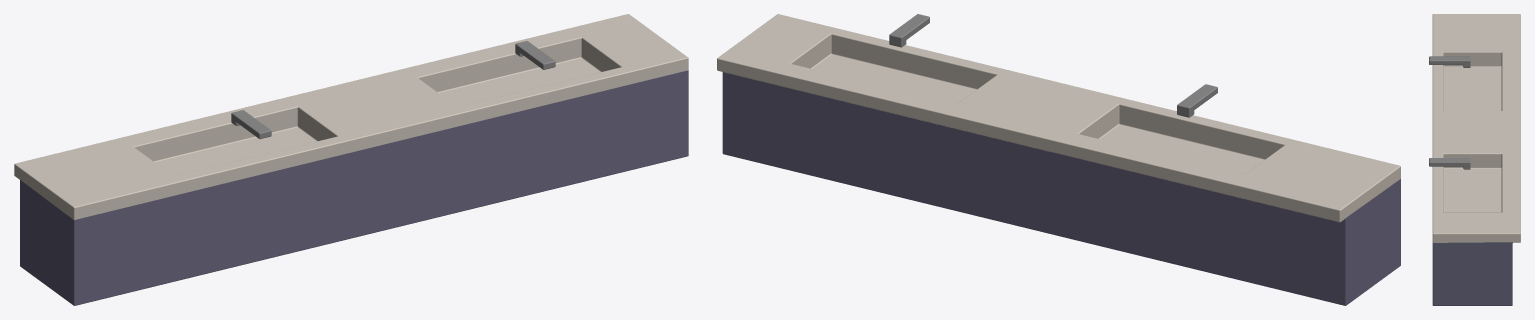
File: umywala.fbx
3 renders of one model, left to right at view 1: azimuth 30°, elevation 25°; view 2: azimuth 150°, elevation 25°; view 3: azimuth 270°, elevation 25°, orthographic. The views are drawn at different scales.
Visible parts, largest first — view 1: Cube; view 2: Cube; view 3: Cube.
Boxes of the visible parts, bbox=[...] form: Cube: bbox=[14, 14, 688, 305]; Cube: bbox=[717, 14, 1400, 305]; Cube: bbox=[1429, 14, 1520, 305].
Bounding box in the file's own units: 650 × 132 × 115.
